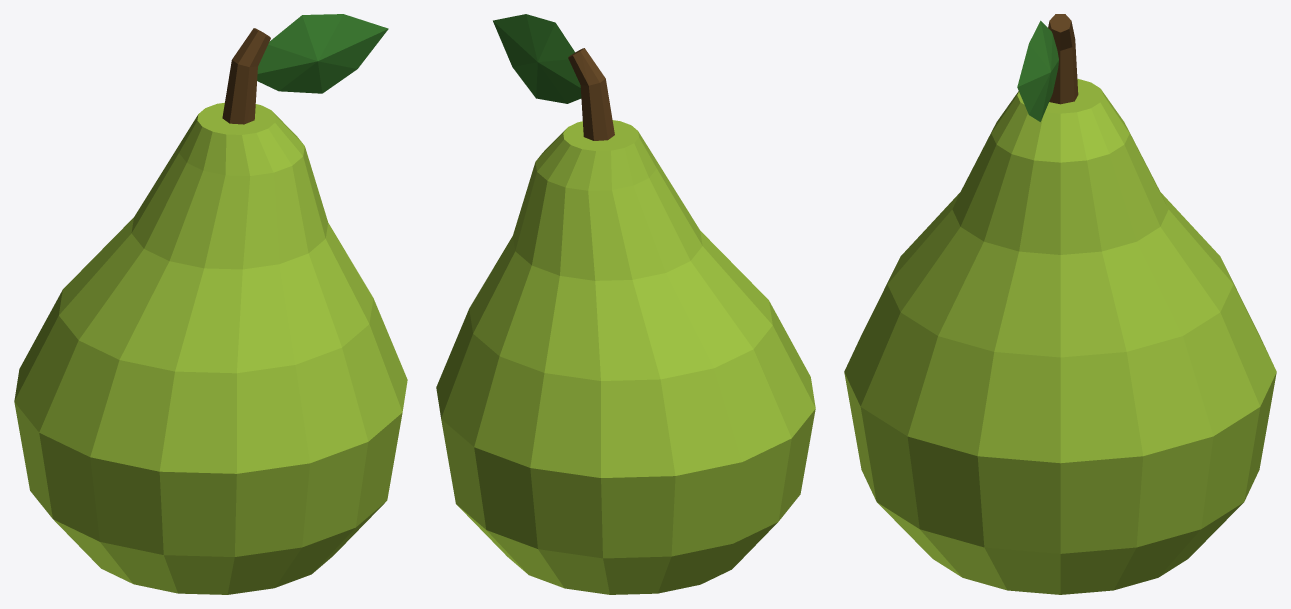
File: PearFruit.obj
3 renders of one model, left to right at view 1: azimuth 30°, elevation 25°; view 2: azimuth 150°, elevation 25°; view 3: azimuth 270°, elevation 25°, orthographic. The views are drawn at different scales.
Parts seen in each view (by area): view 1: PearFruit_PearBody, PearFruit_PearLeaf, PearFruit_PearStem; view 2: PearFruit_PearBody, PearFruit_PearLeaf, PearFruit_PearStem; view 3: PearFruit_PearBody, PearFruit_PearLeaf, PearFruit_PearStem.
Part boxes in pixels (x1,y1,x2,y2): PearFruit_PearBody: [14, 102, 407, 594]; PearFruit_PearLeaf: [257, 14, 388, 93]; PearFruit_PearStem: [222, 28, 270, 124]; PearFruit_PearBody: [436, 120, 815, 594]; PearFruit_PearLeaf: [493, 14, 581, 103]; PearFruit_PearStem: [568, 48, 614, 140]; PearFruit_PearBody: [844, 78, 1276, 594]; PearFruit_PearLeaf: [1017, 20, 1058, 121]; PearFruit_PearStem: [1048, 14, 1078, 104].
Bounding box in the file's own units: 1 × 1.51 × 1.
